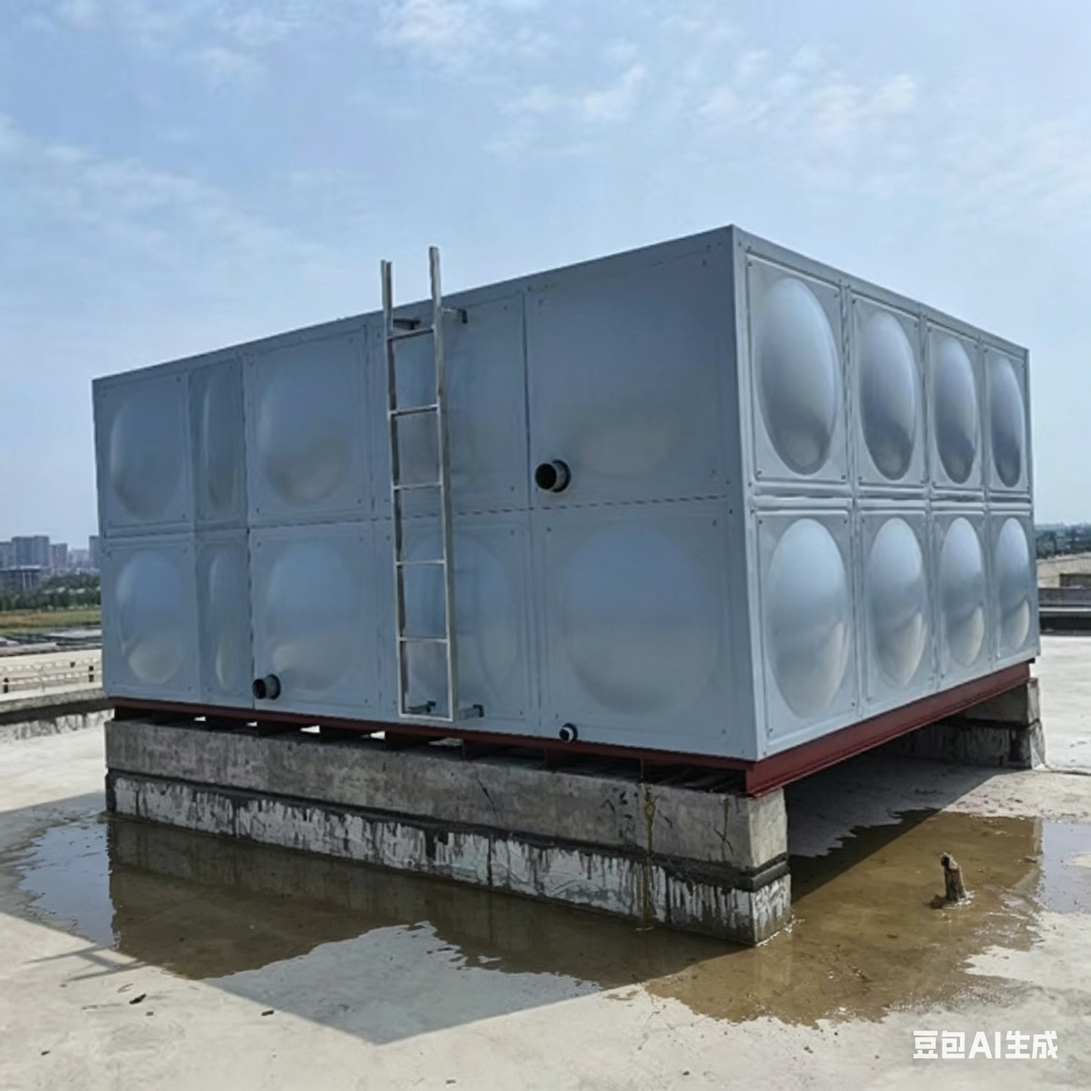Leakage: (44, 820, 425, 969), (437, 888, 810, 1009), (818, 858, 1061, 1027), (852, 802, 1091, 864)
